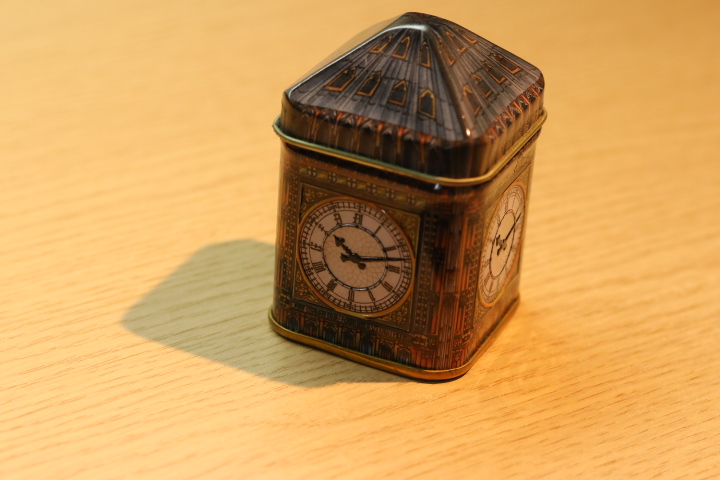Big Ben: (256, 5, 562, 395)
